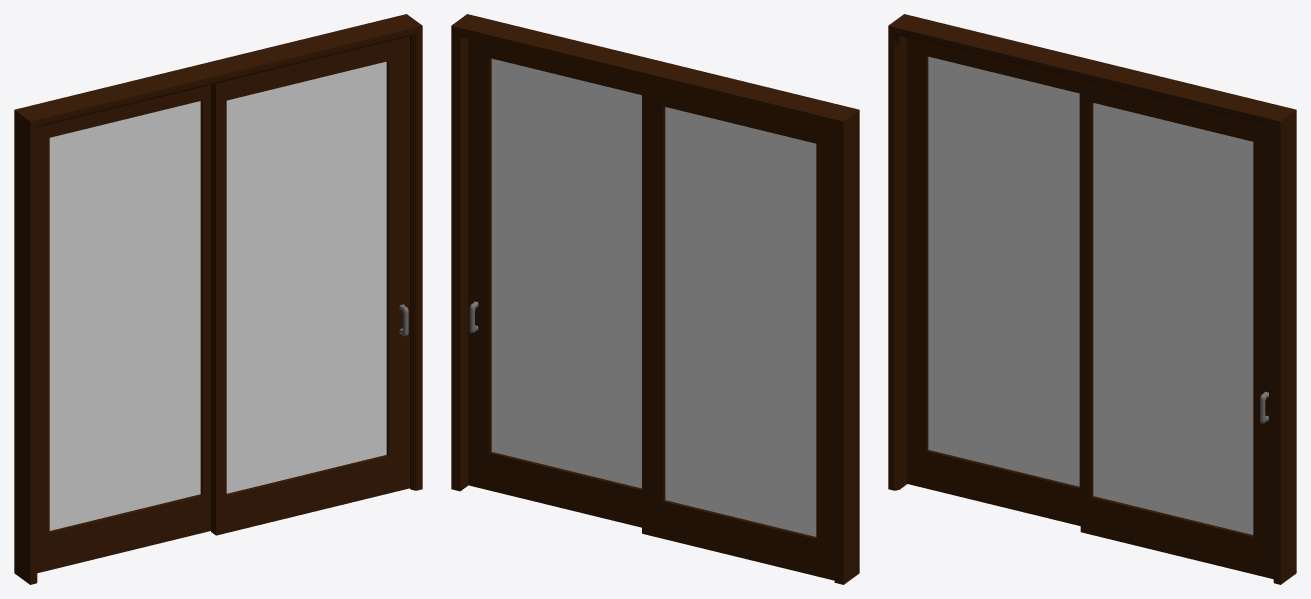
File: sliding door.fbx
3 views of the same model, side by side, from view 1: azimuth 30°, elevation 25°; view 2: azimuth 150°, elevation 25°; view 3: azimuth 330°, elevation 25° (orthographic).
Parts seen in each view (by area): view 1: 16668_84x96_Slider_Door-Black_V1, 16668_84x96_Slider_Door-Black_V1.001; view 2: 16668_84x96_Slider_Door-Black_V1, 16668_84x96_Slider_Door-Black_V1.001; view 3: 16668_84x96_Slider_Door-Black_V1, 16668_84x96_Slider_Door-Black_V1.001.
Part boxes in pixels (x1,y1,x2,y2): 16668_84x96_Slider_Door-Black_V1: (14,14,422,584); 16668_84x96_Slider_Door-Black_V1.001: (211,36,409,535); 16668_84x96_Slider_Door-Black_V1: (451,14,859,584); 16668_84x96_Slider_Door-Black_V1.001: (468,39,641,527); 16668_84x96_Slider_Door-Black_V1: (888,14,1296,584); 16668_84x96_Slider_Door-Black_V1.001: (1080,80,1273,579).
Bounding box in the file's own units: 137 × 154 × 10.84.
